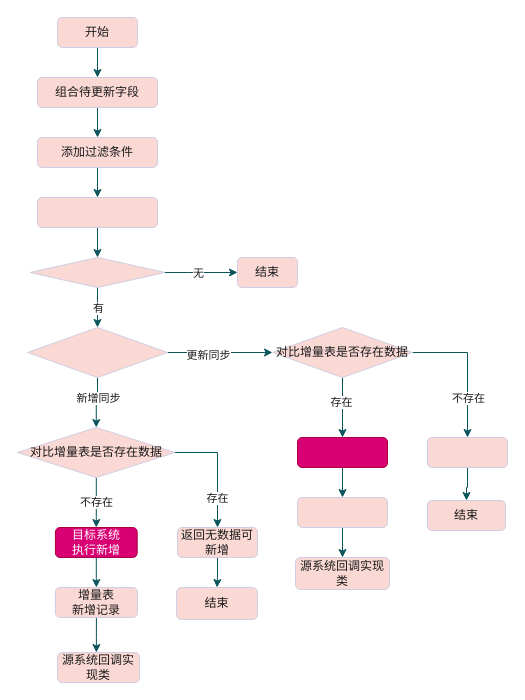
Some shapes in this 525 by 700 pixel diagram are drawn without their labels. Here are the shapes that lost their labels. From the top down, the box of each, then its label:
(36, 196, 158, 228): 前置脚本索引过滤
(29, 256, 165, 288): 是否有数据
(26, 326, 168, 378): 新增同步or更新同步
(296, 436, 388, 468): 目标系统 执行更新
(426, 436, 508, 468): 返回无数据可更新
(296, 496, 388, 528): 增量表 更新记录
